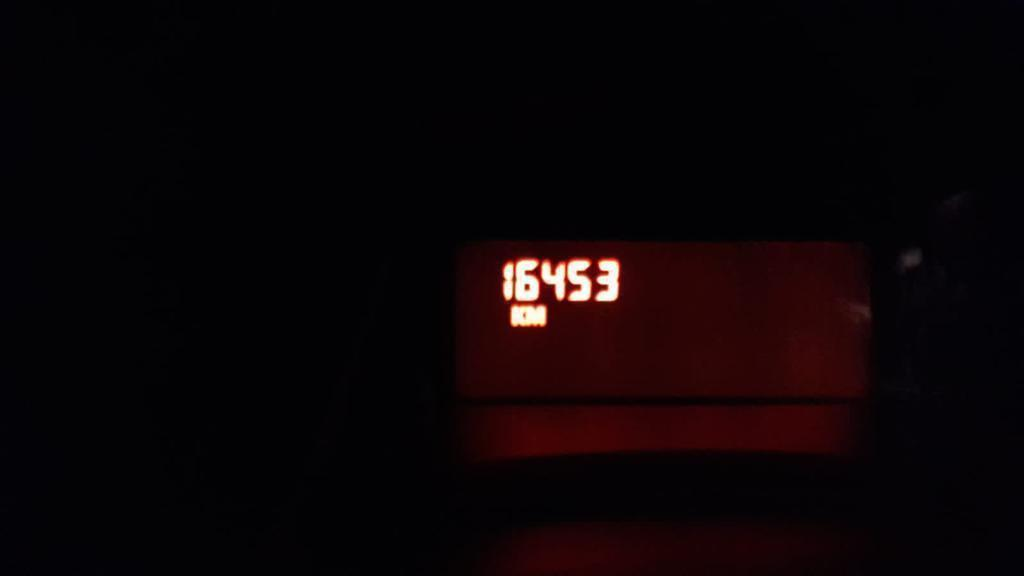1: (501, 260, 514, 301)
3: (594, 259, 620, 302)
4: (540, 259, 566, 301)
5: (566, 258, 592, 302)
6: (513, 258, 540, 301)
X: (525, 303, 547, 327), (509, 304, 525, 327)
odometer: (448, 234, 882, 408)
